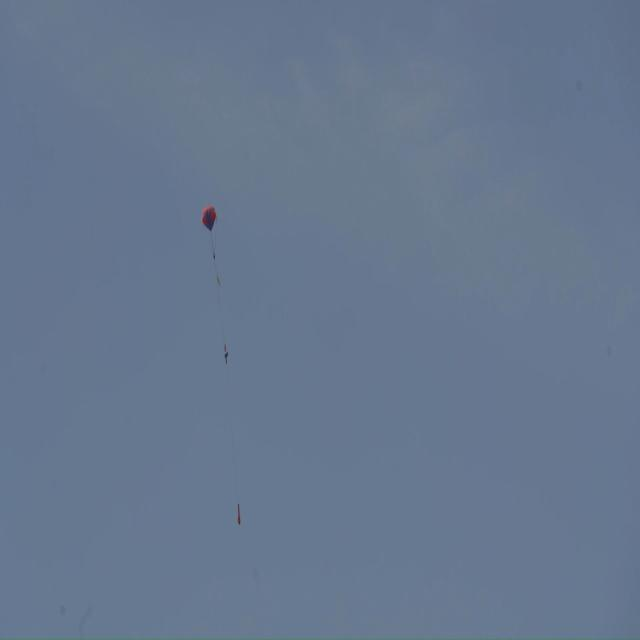Rocket: (237, 503, 241, 525)
